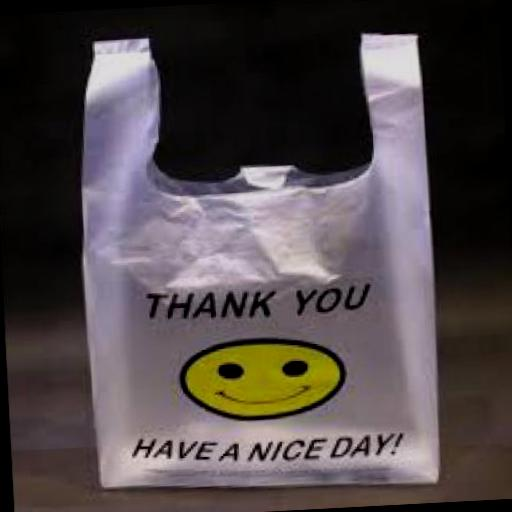plastic: (66, 18, 442, 499)
